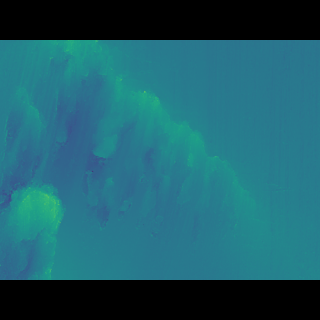Loch: (0, 67, 263, 241)
